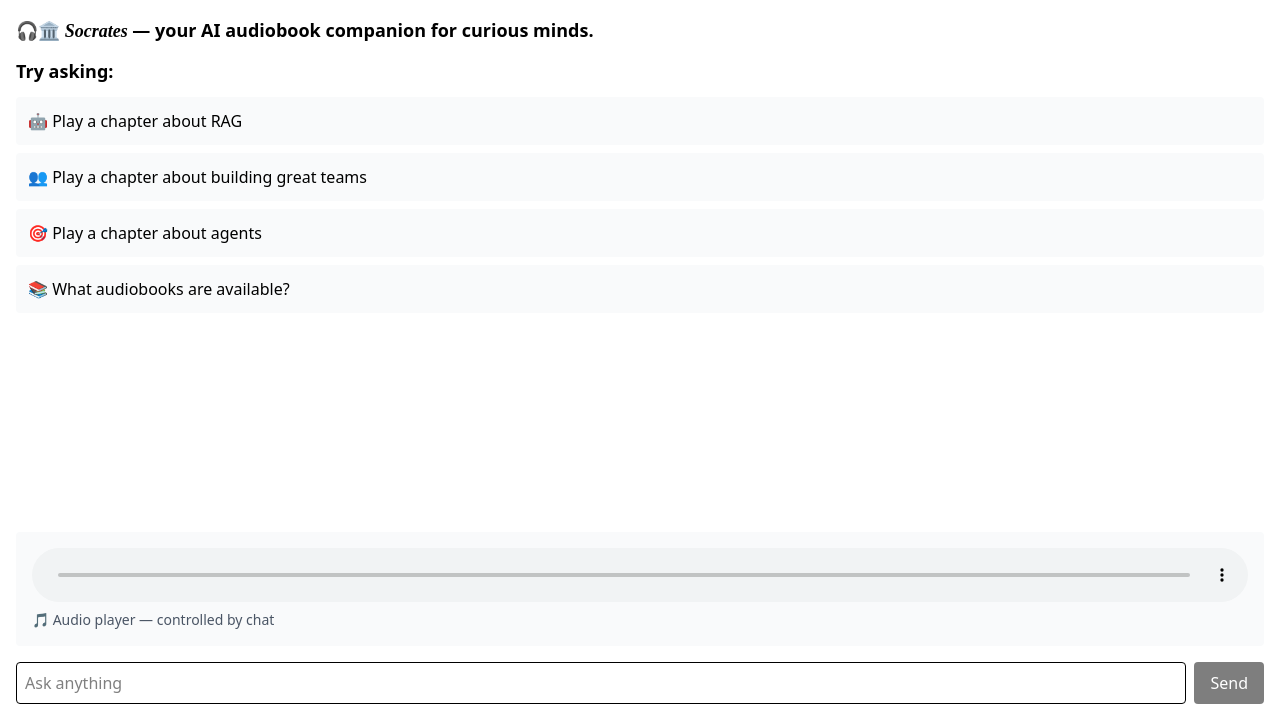
Home page › disables Send when input is empty; enables with text
expect the button "Send" is disabled: met, box [1194,662,1264,704]
Type "Hi" into the field with placeholder "Ask anything" at (601, 683), box [16,662,1186,704]
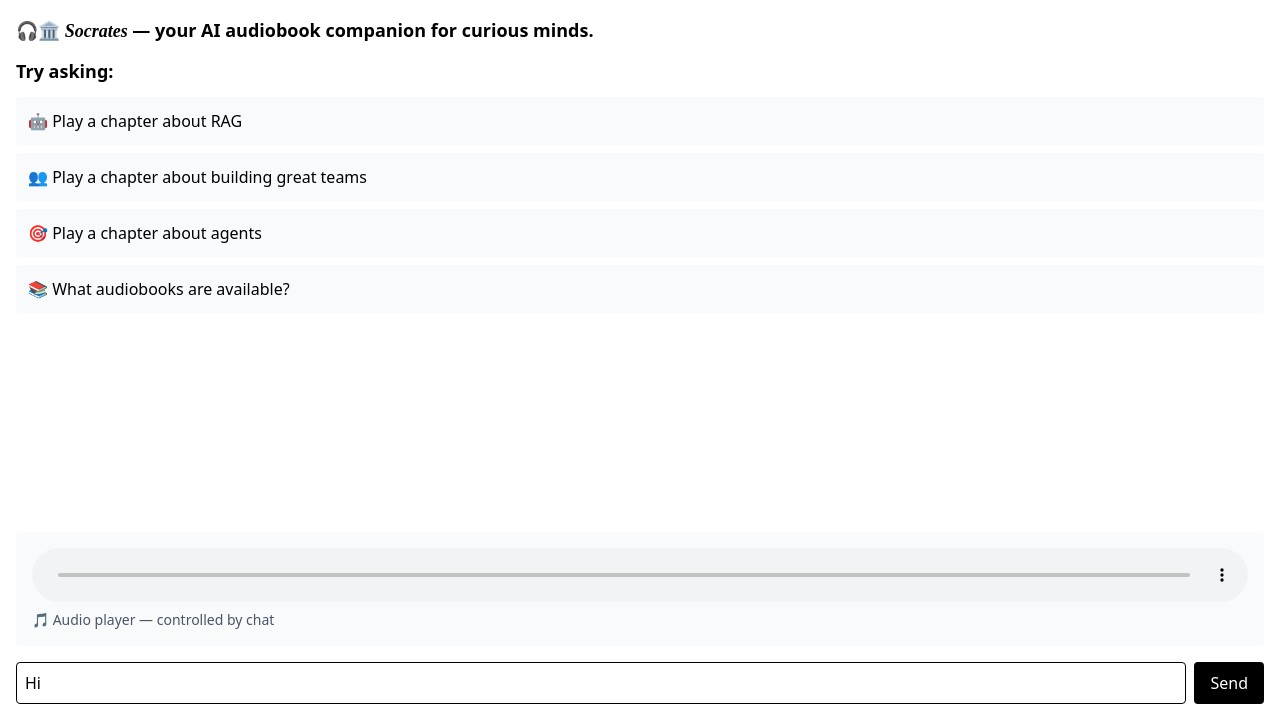
expect the button "Send" is enabled: met, box [1194,662,1264,704]
